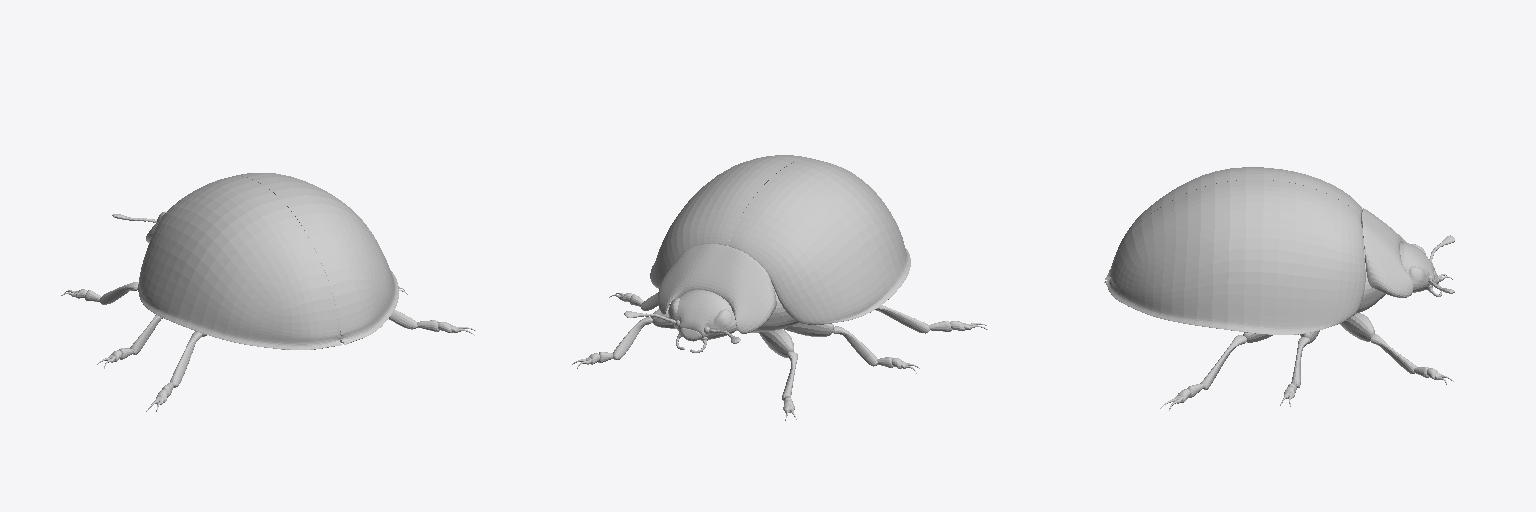
File: ladybird_tri.obj
3 renders of one model, left to right at view 1: azimuth 30°, elevation 25°; view 2: azimuth 150°, elevation 25°; view 3: azimuth 270°, elevation 25°, orthographic.
Visible parts, largest first — view 1: Ladybird_HN_Body_Wing, Ladybird_HN_Body_.003, Ladybird_HN_Body_.006; view 2: Ladybird_HN_Body_Wing, Ladybird_HN_Body_.003, Ladybird_HN_Body_Thor, Ladybird_HN_Body_Head, Ladybird_HN_Body_.017, Ladybird_HN_Body_.011, Ladybird_HN_Body_.013, Ladybird_HN_Body_Body; view 3: Ladybird_HN_Body_.003, Ladybird_HN_Body_Thor, Ladybird_HN_Body_Wing, Ladybird_HN_Body_Head, Ladybird_HN_Body_.017.
Boxes of the visible parts, x1=… form: Ladybird_HN_Body_Wing: x1=138, y1=176, x2=347, y2=349; Ladybird_HN_Body_.003: x1=232, y1=173, x2=398, y2=343; Ladybird_HN_Body_.006: x1=170, y1=310, x2=417, y2=387; Ladybird_HN_Body_Wing: x1=728, y1=159, x2=910, y2=324; Ladybird_HN_Body_.003: x1=650, y1=155, x2=811, y2=288; Ladybird_HN_Body_Thor: x1=658, y1=244, x2=776, y2=333; Ladybird_HN_Body_Head: x1=668, y1=290, x2=736, y2=341; Ladybird_HN_Body_.017: x1=651, y1=305, x2=793, y2=357; Ladybird_HN_Body_.011: x1=613, y1=317, x2=797, y2=400; Ladybird_HN_Body_.013: x1=641, y1=293, x2=877, y2=366; Ladybird_HN_Body_Body: x1=727, y1=217, x2=798, y2=332; Ladybird_HN_Body_.003: x1=1104, y1=180, x2=1365, y2=334; Ladybird_HN_Body_Thor: x1=1362, y1=208, x2=1412, y2=297; Ladybird_HN_Body_Wing: x1=1105, y1=167, x2=1362, y2=282; Ladybird_HN_Body_Head: x1=1400, y1=242, x2=1437, y2=292; Ladybird_HN_Body_.017: x1=1340, y1=313, x2=1374, y2=341.
Size of the model in its own units: 8.39 by 3.71 by 7.73.